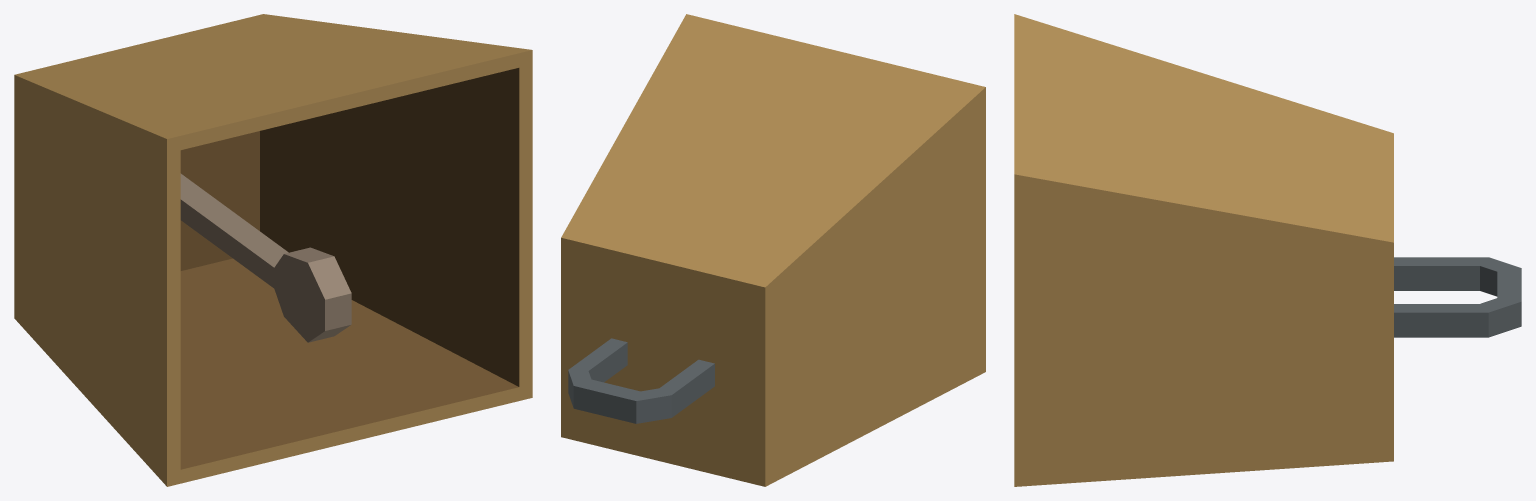
The picture shows the model from 3 angles, left to right: view 1: azimuth 30°, elevation 25°; view 2: azimuth 150°, elevation 25°; view 3: azimuth 270°, elevation 25°; orthographic projection. The views are drawn at different scales.
Visible parts, largest first — view 1: WholeTaperedOpenMouthBellShell, WholeInternalStemAndFacetedHeadClapper; view 2: WholeTaperedOpenMouthBellShell, WholeExternalChamferedStrapLoop; view 3: WholeTaperedOpenMouthBellShell, WholeExternalChamferedStrapLoop.
Part boxes in pixels (box(x1,y1,x2,y2)): WholeTaperedOpenMouthBellShell: box(14, 14, 532, 486); WholeInternalStemAndFacetedHeadClapper: box(180, 173, 351, 342); WholeTaperedOpenMouthBellShell: box(561, 14, 985, 486); WholeExternalChamferedStrapLoop: box(568, 338, 714, 423); WholeTaperedOpenMouthBellShell: box(1014, 14, 1393, 486); WholeExternalChamferedStrapLoop: box(1394, 257, 1521, 337).
Bounding box in the file's own units: 0.22 × 0.2 × 0.294.
